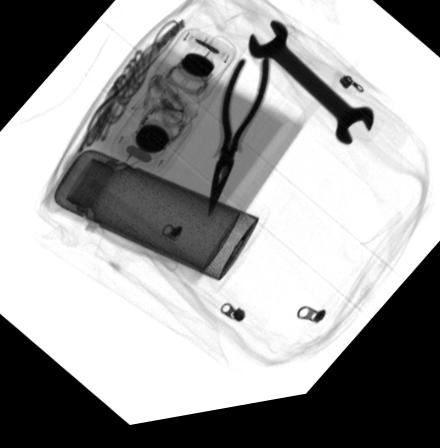Pliers: (204, 63, 272, 227)
Wrench: (247, 30, 375, 160)
